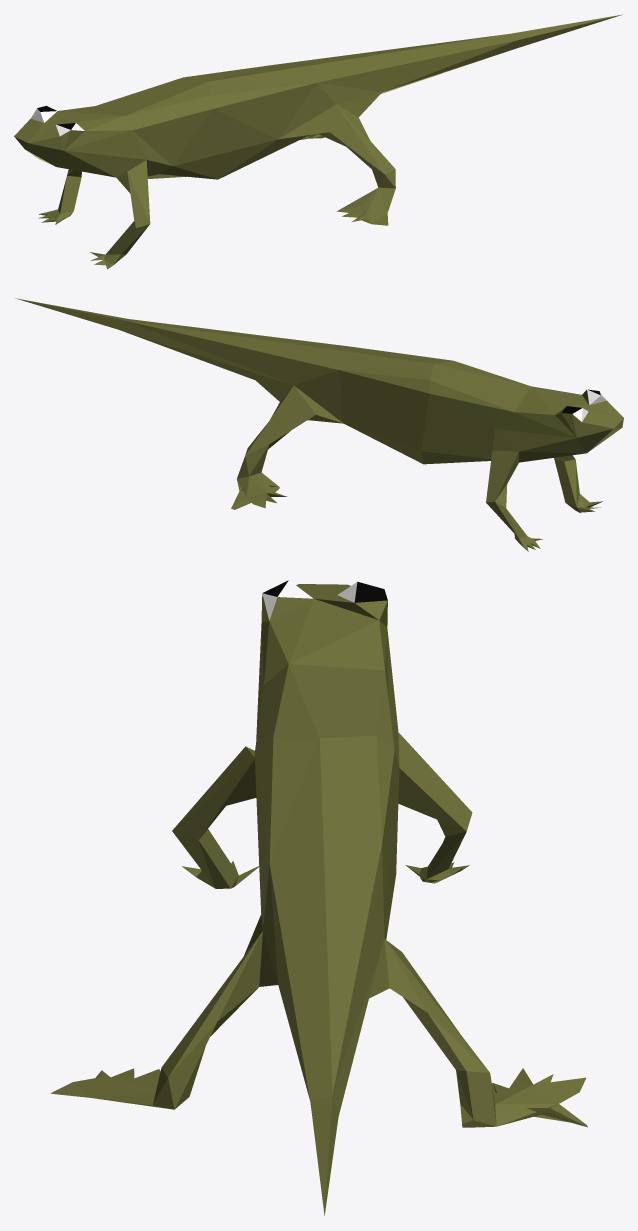
File: Lizardfbx.fbx
The picture shows the model from 3 angles, top to bottom: view 1: azimuth 30°, elevation 25°; view 2: azimuth 150°, elevation 25°; view 3: azimuth 270°, elevation 25°; orthographic projection. The views are drawn at different scales.
Parts seen in each view (by area): view 1: Cube.001; view 2: Cube.001; view 3: Cube.001.
Boxes of the visible parts, box(x1,y1,x2,y2) form: Cube.001: box(14, 14, 622, 269); Cube.001: box(15, 298, 623, 551); Cube.001: box(50, 580, 587, 1215).
Bounding box in the file's own units: 757 × 161 × 292.
